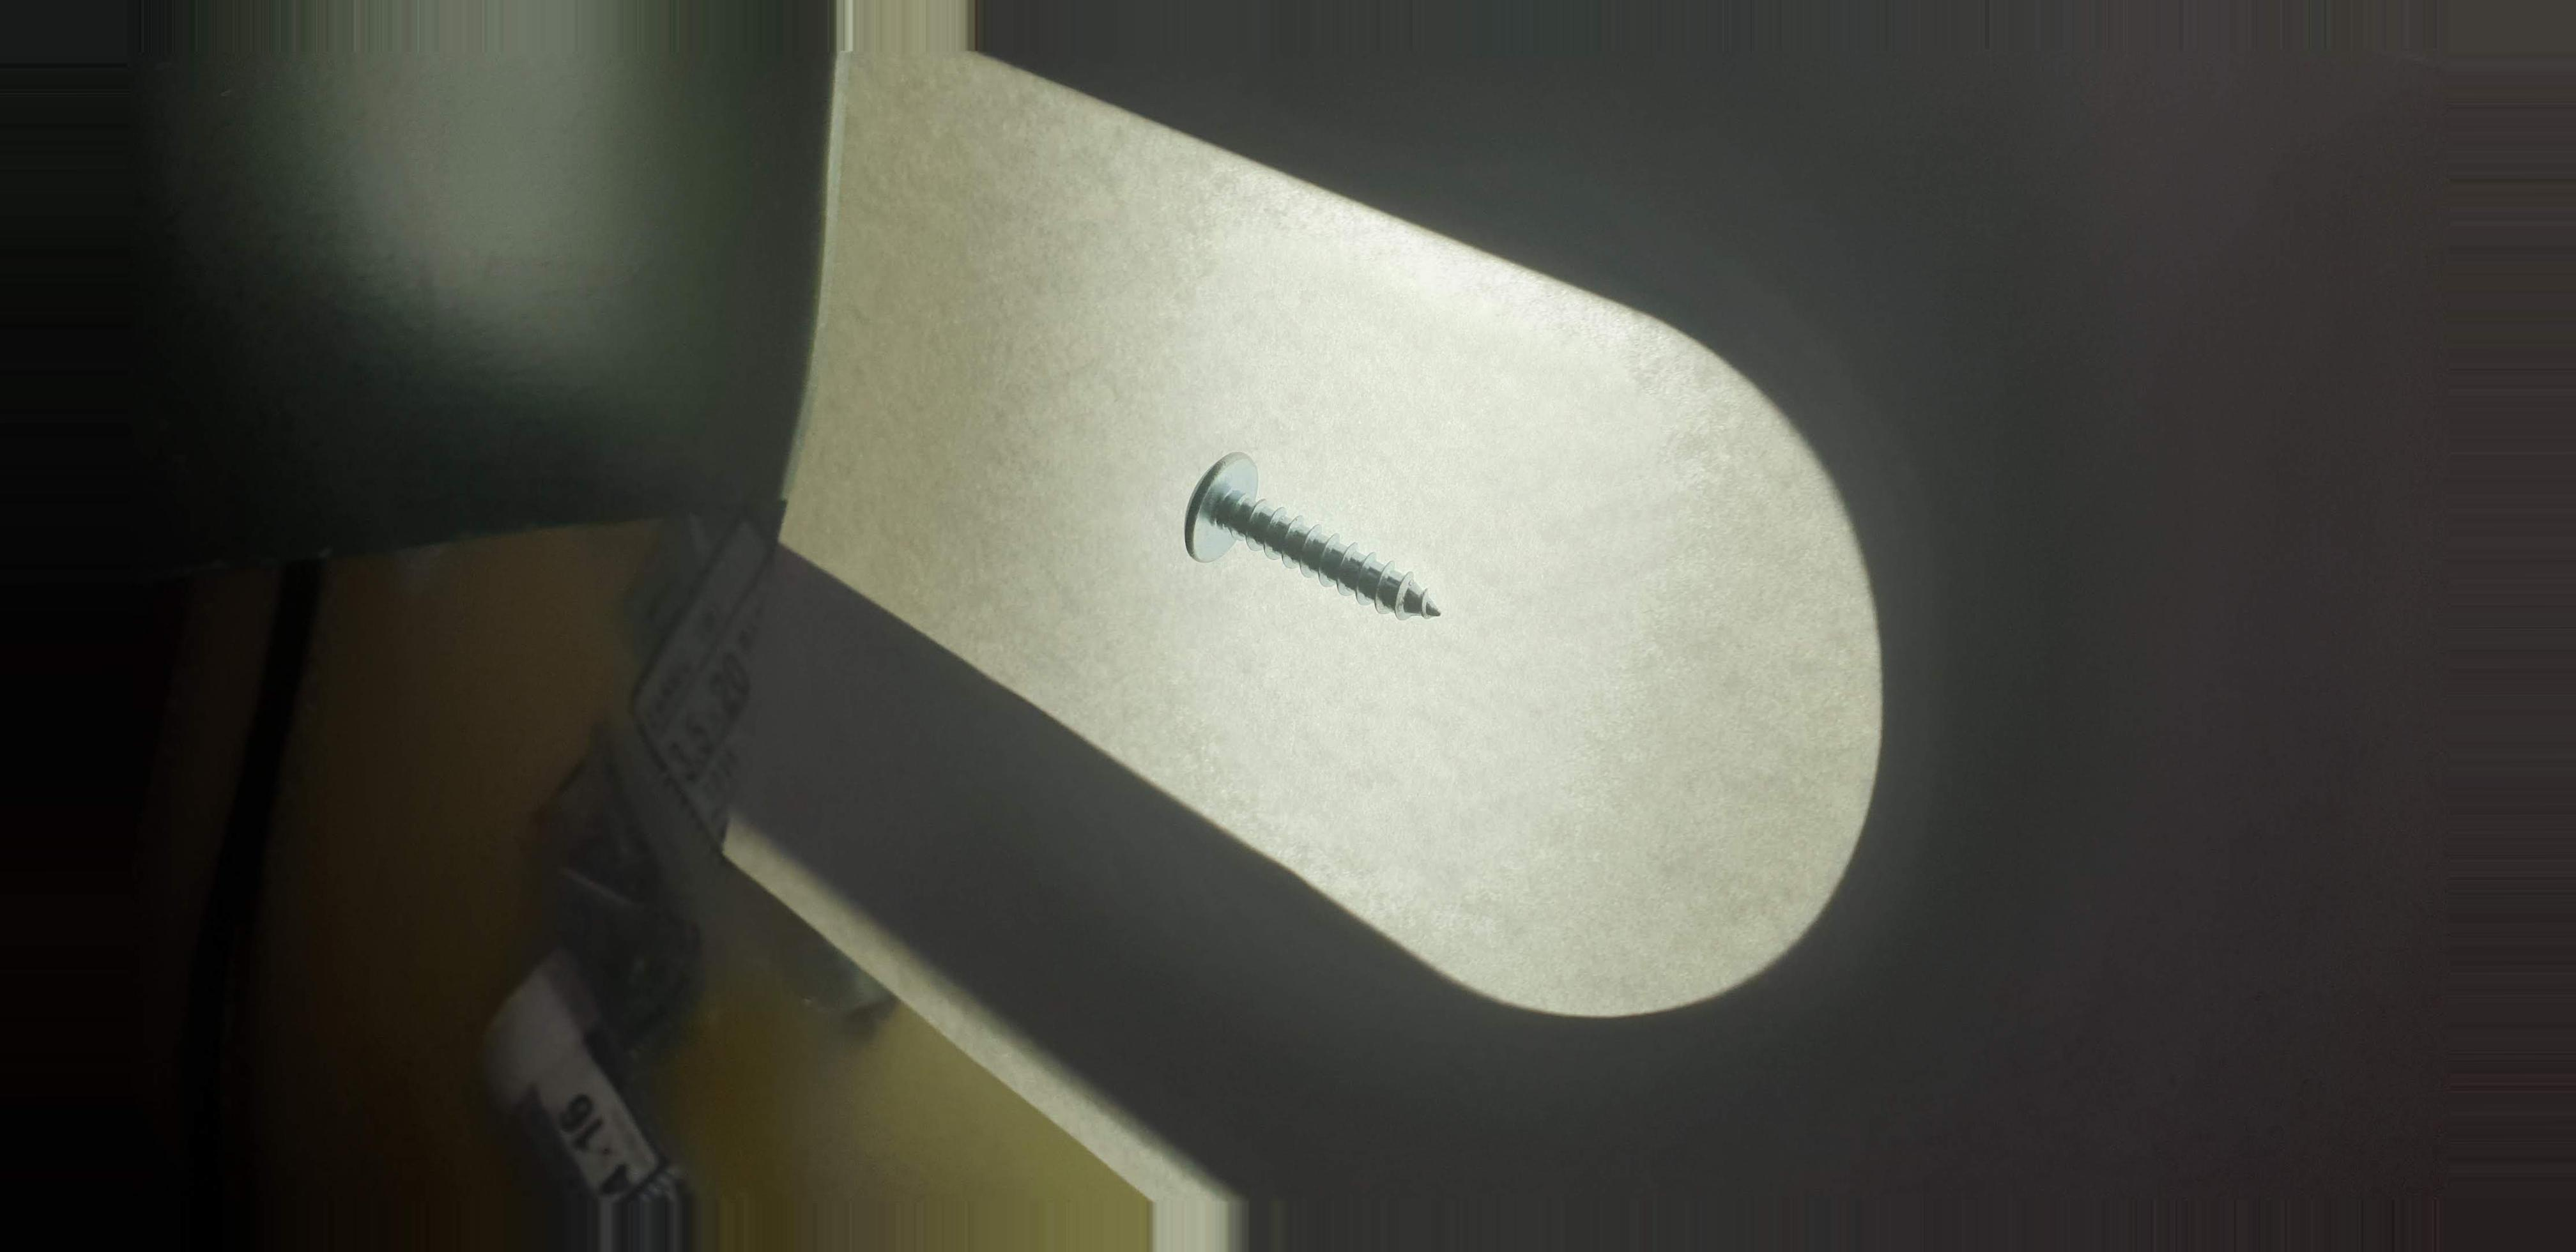S002: (1168, 429, 1470, 654)
